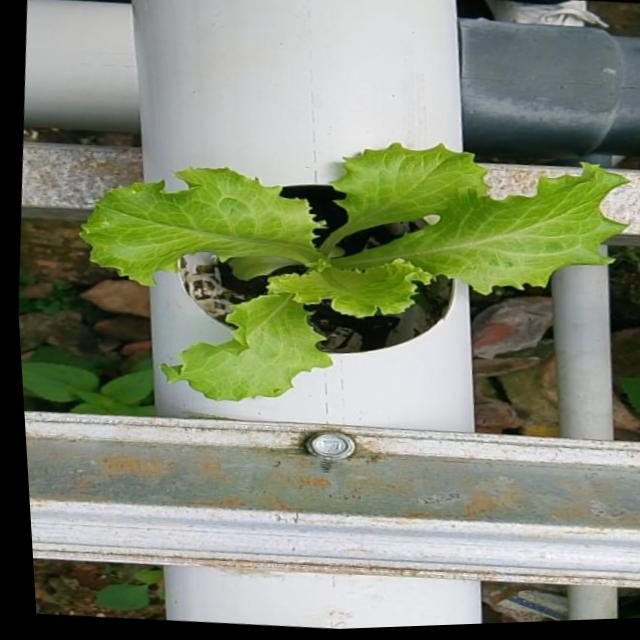Baby: (81, 142, 630, 400)
